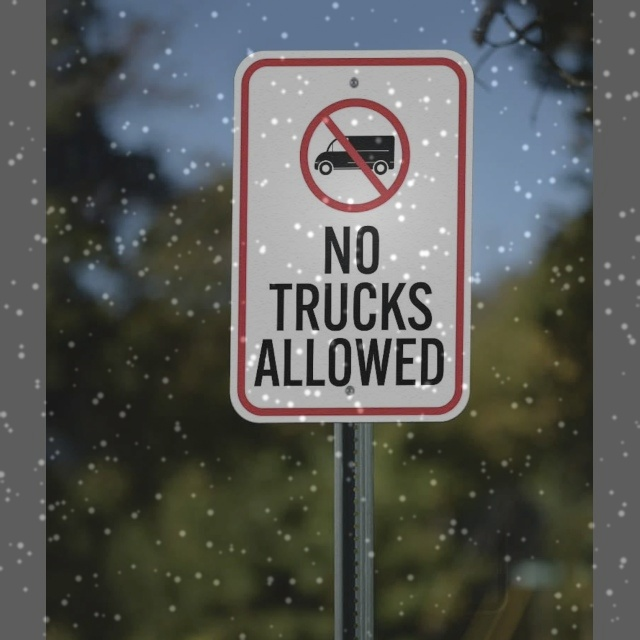Truck_Prohibited: (280, 85, 448, 221)
